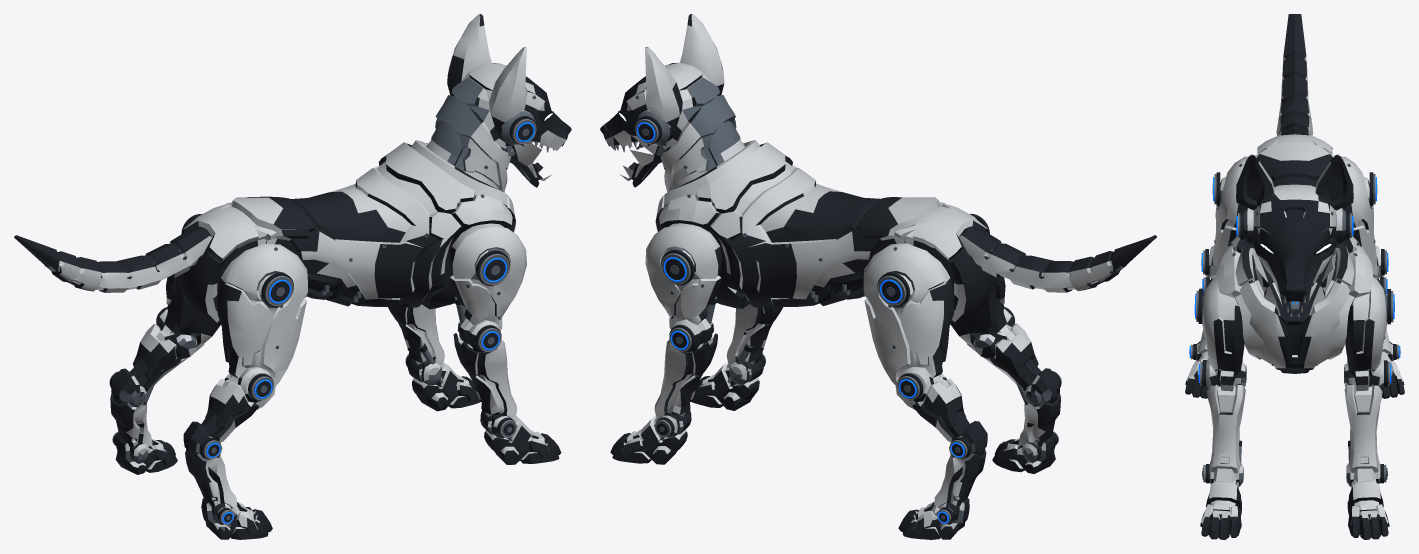
Rendered from robotic-dog.glb.
3 views of the same model, side by side, from view 1: azimuth 30°, elevation 25°; view 2: azimuth 150°, elevation 25°; view 3: azimuth 270°, elevation 25° (orthographic). The views are drawn at different scales.
Visible parts, largest first — view 1: Chest • original shell, Body • original shell, Rear Hip.R • original shell, Front Shoulder.R • original shell, Neck Upper • original shell, Front Elbow.R • original shell, Head • original shell, Tail.01 • original shell, Rear Knee.L • original shell, Rear Hip.L • original shell, Front Elbow.L • original shell, Rear Knee.R • original shell (+18 smaller); view 2: Chest • original shell, Body • original shell, Rear Hip.L • original shell, Front Shoulder.L • original shell, Neck Upper • original shell, Front Elbow.L • original shell, Head • original shell, Tail.01 • original shell, Rear Knee.R • original shell, Rear Hip.R • original shell, Front Elbow.R • original shell, Rear Knee.L • original shell (+17 smaller); view 3: Chest • original shell, Head • original shell, Front Shoulder.R • original shell, Front Shoulder.L • original shell, Front Elbow.R • original shell, Front Elbow.L • original shell, Body • original shell, Neck Base • original shell, Rear Hip.L • original shell, Rear Hip.R • original shell, Ear.R • original shell, Ear.L • original shell (+19 smaller).
Part boxes in pixels (x1=…): Chest • original shell: x1=330, y1=139, x2=515, y2=309; Body • original shell: x1=183, y1=191, x2=387, y2=322; Rear Hip.R • original shell: x1=210, y1=243, x2=307, y2=404; Front Shoulder.R • original shell: x1=449, y1=223, x2=526, y2=335; Neck Upper • original shell: x1=431, y1=77, x2=511, y2=173; Front Elbow.R • original shell: x1=453, y1=323, x2=517, y2=433; Head • original shell: x1=447, y1=63, x2=571, y2=150; Tail.01 • original shell: x1=170, y1=221, x2=219, y2=322; Rear Knee.L • original shell: x1=112, y1=333, x2=211, y2=397; Rear Hip.L • original shell: x1=140, y1=216, x2=220, y2=352; Front Elbow.L • original shell: x1=388, y1=304, x2=444, y2=380; Rear Knee.R • original shell: x1=183, y1=369, x2=286, y2=448; Chest • original shell: x1=655, y1=139, x2=841, y2=308; Body • original shell: x1=784, y1=191, x2=988, y2=322; Rear Hip.L • original shell: x1=863, y1=243, x2=960, y2=403; Front Shoulder.L • original shell: x1=645, y1=223, x2=722, y2=335; Neck Upper • original shell: x1=660, y1=77, x2=740, y2=173; Front Elbow.L • original shell: x1=654, y1=323, x2=717, y2=432; Head • original shell: x1=600, y1=62, x2=723, y2=150; Tail.01 • original shell: x1=952, y1=220, x2=1000, y2=322; Rear Knee.R • original shell: x1=959, y1=332, x2=1059, y2=397; Rear Hip.R • original shell: x1=950, y1=213, x2=1030, y2=352; Front Elbow.R • original shell: x1=726, y1=304, x2=783, y2=380; Rear Knee.L • original shell: x1=884, y1=369, x2=987, y2=448; Chest • original shell: x1=1216, y1=235, x2=1373, y2=373; Head • original shell: x1=1240, y1=184, x2=1349, y2=301; Front Shoulder.R • original shell: x1=1202, y1=276, x2=1246, y2=386; Front Shoulder.L • original shell: x1=1344, y1=277, x2=1387, y2=386; Front Elbow.R • original shell: x1=1206, y1=369, x2=1246, y2=481; Front Elbow.L • original shell: x1=1344, y1=368, x2=1383, y2=481; Body • original shell: x1=1255, y1=134, x2=1334, y2=186; Neck Base • original shell: x1=1217, y1=238, x2=1372, y2=287; Rear Hip.L • original shell: x1=1341, y1=156, x2=1380, y2=268; Rear Hip.R • original shell: x1=1209, y1=156, x2=1248, y2=268; Ear.R • original shell: x1=1236, y1=154, x2=1279, y2=212; Ear.L • original shell: x1=1315, y1=154, x2=1353, y2=211.
Size of what is drawn, in the model's own units: 0.999 by 0.6869 by 0.3618.
